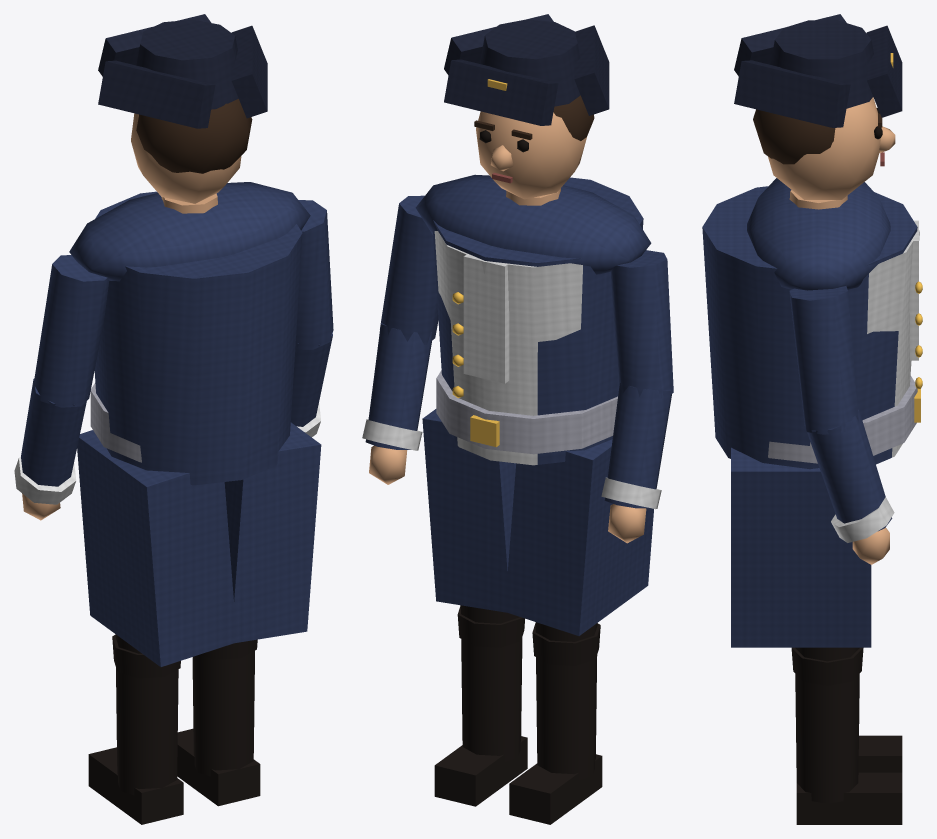
Rendered from arsenal.glb.
The picture shows the model from 3 angles, left to right: view 1: azimuth 30°, elevation 25°; view 2: azimuth 150°, elevation 25°; view 3: azimuth 270°, elevation 25°; orthographic projection. The views are drawn at different scales.
Visible parts, largest first — view 1: Body, Head, ShinL, ShinR, ArmL, ForearmL, ArmR, ForearmR; view 2: Body, Head, ShinR, ShinL, ArmL, ForearmL, ForearmR, ArmR; view 3: Body, Head, ShinR, ArmR, ForearmR, ShinL.
Part boxes in pixels (x1,y1,x2,y2): Body: (69, 182, 321, 666); Head: (98, 14, 267, 203); ShinL: (88, 634, 183, 824); ShinR: (177, 639, 260, 806); ArmL: (32, 255, 109, 407); ForearmL: (14, 378, 87, 520); ArmR: (295, 200, 333, 349); ForearmR: (290, 332, 332, 437); Body: (415, 174, 653, 635); Head: (444, 14, 609, 199); ShinR: (434, 605, 527, 806); ShinL: (509, 622, 602, 824); ArmL: (611, 250, 673, 398); ForearmL: (601, 382, 671, 543); ForearmR: (362, 323, 431, 484); ArmR: (380, 195, 438, 344); Body: (702, 178, 922, 647); Head: (734, 14, 902, 199); ShinR: (791, 647, 902, 824); ArmR: (789, 286, 858, 434); ForearmR: (804, 409, 894, 564); ShinL: (858, 735, 902, 772).
Bounding box in the file's own units: 0.78 × 1.9 × 0.5014.
Materials: 11 (5 with a texture image).
